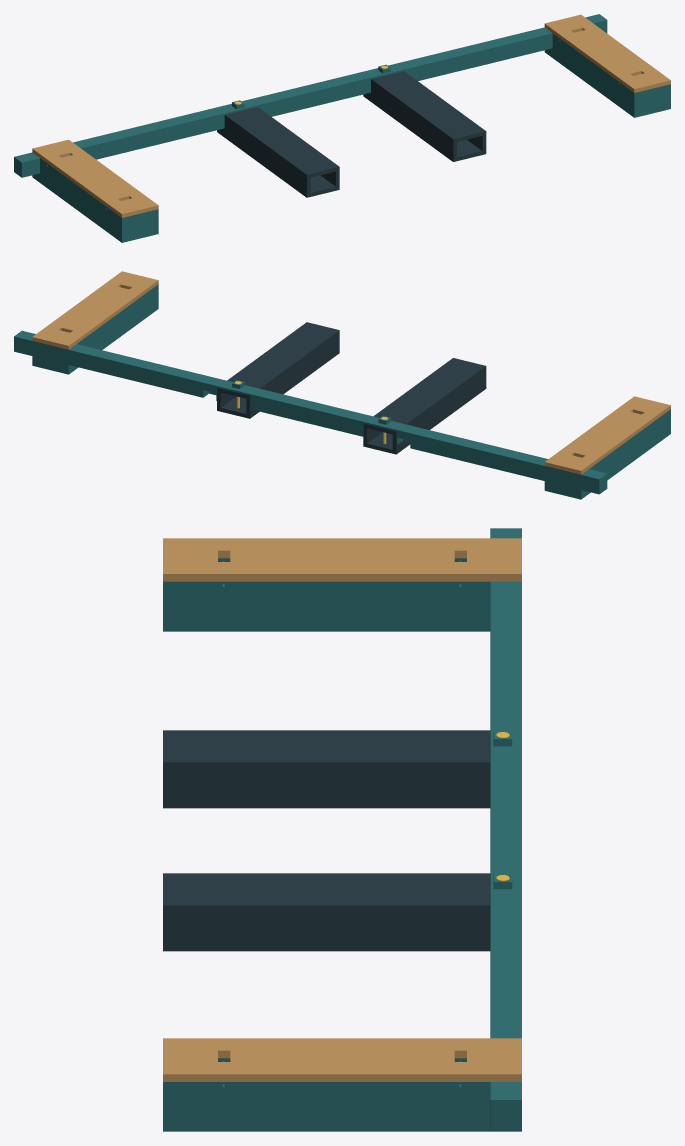
Rendered from long-cradle.glb.
3 renders of one model, top to bottom at view 1: azimuth 30°, elevation 25°; view 2: azimuth 150°, elevation 25°; view 3: azimuth 270°, elevation 25°, orthographic. The views are drawn at different scales.
Visible parts, largest first — view 1: long-cradle; view 2: long-cradle; view 3: long-cradle.
Part boxes in pixels (x1,y1,x2,y2): long-cradle: (14, 14, 670, 242); long-cradle: (14, 271, 670, 499); long-cradle: (163, 528, 521, 1131).
Bounding box in the file's own units: 3.2 × 0.15 × 0.85.
